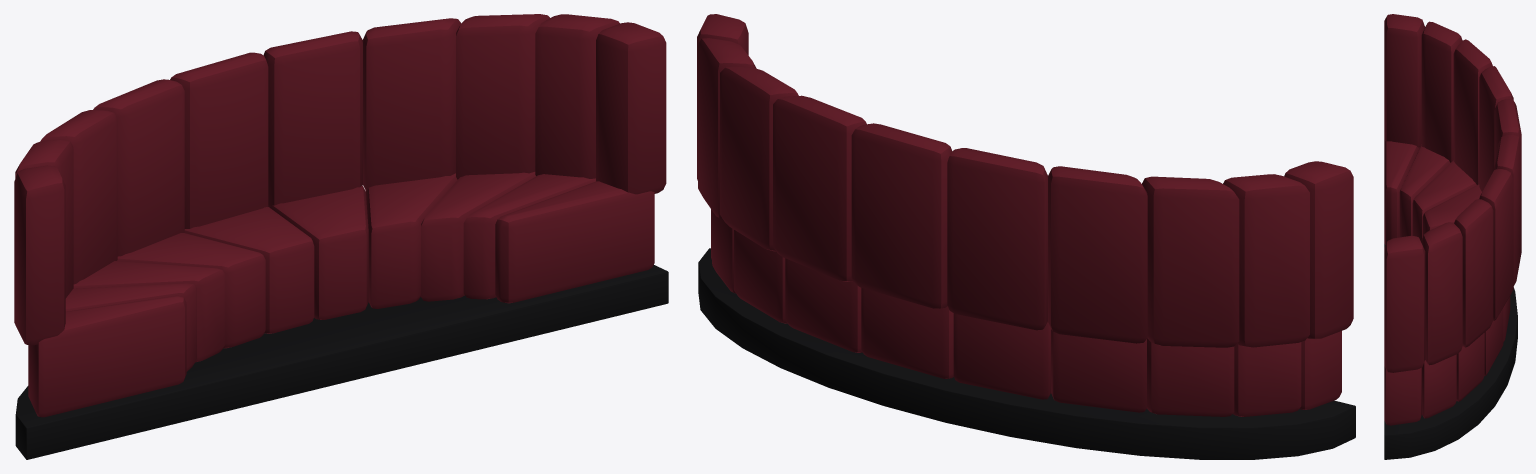
Rendered from tideline_banquette.glb.
3 views of the same model, side by side, from view 1: azimuth 30°, elevation 25°; view 2: azimuth 150°, elevation 25°; view 3: azimuth 270°, elevation 25° (orthographic). The views are drawn at different scales.
Visible parts, largest first — view 1: tideline_banquette; view 2: tideline_banquette; view 3: tideline_banquette.
Boxes of the visible parts, box(x1,y1,x2,y2) form: tideline_banquette: box(14, 14, 668, 459); tideline_banquette: box(697, 14, 1355, 459); tideline_banquette: box(1384, 14, 1521, 459).
Bounding box in the file's own units: 2.48 × 1 × 0.597.
